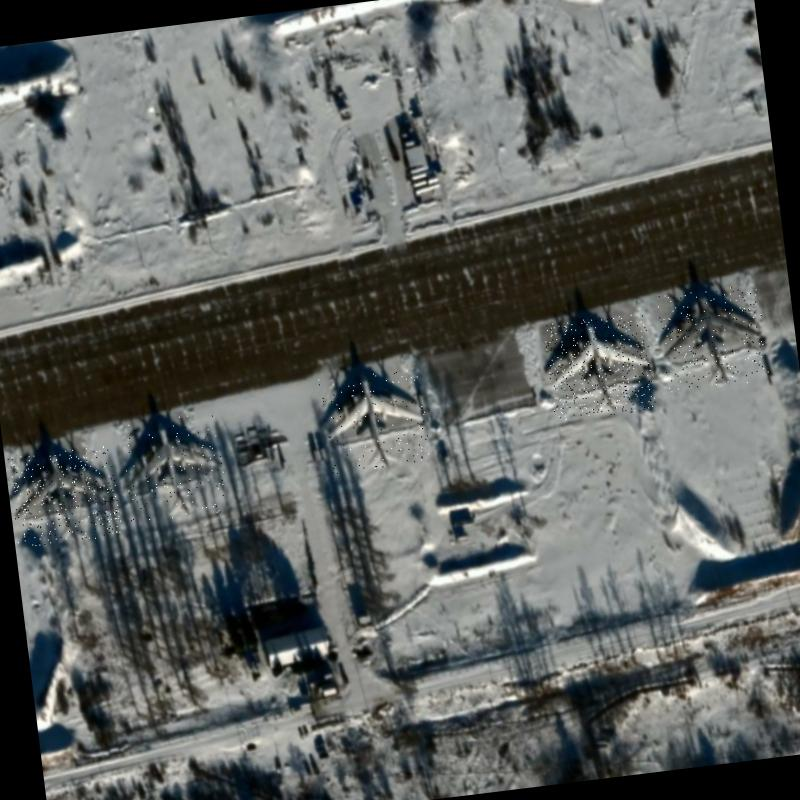A17: (318, 364, 432, 474), (543, 312, 656, 422), (656, 284, 770, 392), (119, 412, 228, 522), (7, 444, 122, 548)
